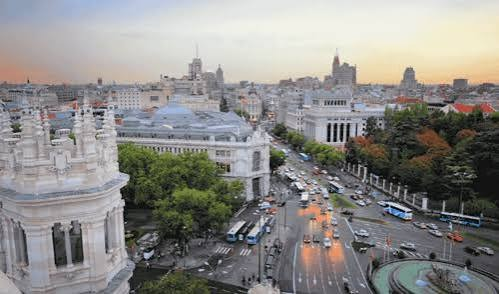car: (15, 74, 494, 288), (239, 127, 479, 285), (266, 200, 279, 209)
